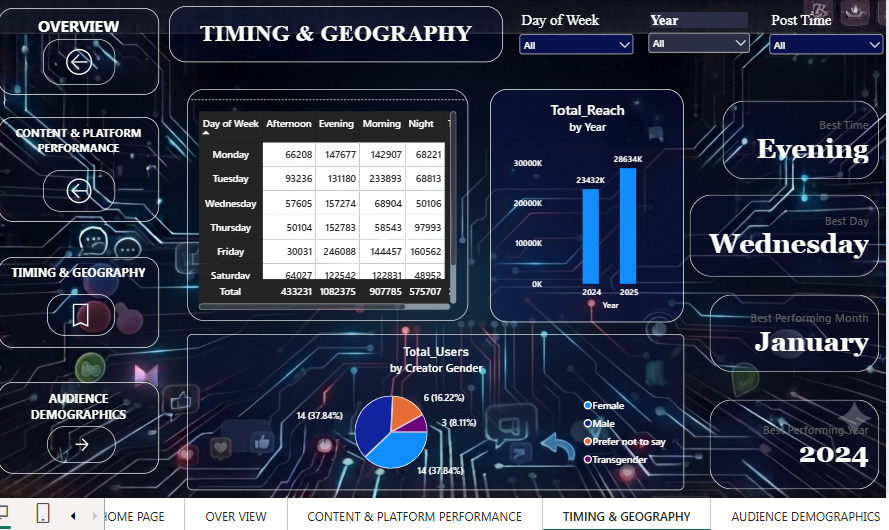

The dashboard page shown, as its layout file describes it:
{"tool":"powerbi","page":{"name":"TIMING & GEOGRAPHY","canvas":[1280,720],"ordinal":3},"visuals":[{"type":"cardVisual","title":"TOTAL POSTS","fields":{"Data":["Final Dataset.Best Performing Year"]},"box":[1023.8,577.4,246.2,131],"z":0},{"type":"cardVisual","title":"TOTAL POSTS","fields":{"Data":["Final Dataset.Best Performing Month"]},"box":[1023.8,426.2,246.2,113.8],"z":1000},{"type":"cardVisual","title":"TOTAL POSTS","fields":{"Data":["Final Dataset.Best Time Slot"]},"box":[995,282.2,275,121],"z":2000},{"type":"pivotTable","fields":{"Values":["Final Dataset.Sum_Total_Engagement"],"Columns":["Engagement System Data.Post Time"],"Rows":["Engagement System Data.Day of Week"]},"box":[272.2,131,404.6,334.1],"z":3000},{"type":"cardVisual","title":"TOTAL POSTS","fields":{"Data":["Final Dataset.Best Time"]},"box":[1042.6,146.9,227.5,115.2],"z":4000},{"type":"clusteredColumnChart","fields":{"Category":["Engagement System Data.Year"],"Y":["Engagement System Data.Total_Reach"]},"box":[708.5,131,279.4,335.5],"z":5000},{"type":"pieChart","fields":{"Category":["Engagement System Data.Creator Gender"],"Y":["Engagement System Data.Total_Users"]},"box":[272.2,483.8,715.7,224.6],"z":6000},{"type":"actionButton","box":[246.2,11.5,481,80.6],"z":7000},{"type":"shape","box":[0,171.4,231.8,151.2],"z":8000},{"type":"shape","box":[0,14.4,231.8,125.3],"z":9000},{"type":"shape","box":[0,373,231.8,131],"z":10000},{"type":"shape","box":[0,553,231.8,132.5],"z":11000},{"type":"actionButton","box":[64.8,59,103.7,66.2],"z":12000},{"type":"actionButton","box":[64.8,247.7,103.7,60.5],"z":13000},{"type":"actionButton","box":[70.6,426.2,97.9,60.5],"z":14000},{"type":"actionButton","box":[70.6,616.3,99.4,53.3],"z":15000},{"type":"slicer","fields":{"Values":["Engagement System Data.Day of Week"]},"box":[745.9,20.2,174.2,77.8],"z":16000},{"type":"slicer","fields":{"Values":["Engagement System Data.Post Time"]},"box":[1105.9,20.2,174.2,86.4],"z":17000},{"type":"slicer","fields":{"Values":["Engagement System Data.Year"]},"box":[931.7,20.2,155.5,72],"z":18000}]}

Visuals, with their boxes on the page's 1280x720 design canvas (x1, y1, x2, y2). These are canvas units, not pixel positions in the 889x530 screenshot, which may show the page scaled, cropped or inside an application window:
"TOTAL POSTS" cardVisual: <box>1024,577,1270,708</box>
"TOTAL POSTS" cardVisual: <box>1024,426,1270,540</box>
"TOTAL POSTS" cardVisual: <box>995,282,1270,403</box>
pivotTable - Final Dataset.Sum_Total_Engagement x Engagement System Data.Post Time: <box>272,131,677,465</box>
"TOTAL POSTS" cardVisual: <box>1043,147,1270,262</box>
clusteredColumnChart - Engagement System Data.Year x Engagement System Data.Total_Reach: <box>708,131,988,466</box>
pieChart - Engagement System Data.Creator Gender x Engagement System Data.Total_Users: <box>272,484,988,708</box>
actionButton: <box>246,12,727,92</box>
shape: <box>0,171,232,323</box>
shape: <box>0,14,232,140</box>
shape: <box>0,373,232,504</box>
shape: <box>0,553,232,686</box>
actionButton: <box>65,59,168,125</box>
actionButton: <box>65,248,168,308</box>
actionButton: <box>71,426,168,487</box>
actionButton: <box>71,616,170,670</box>
slicer - Engagement System Data.Day of Week: <box>746,20,920,98</box>
slicer - Engagement System Data.Post Time: <box>1106,20,1280,107</box>
slicer - Engagement System Data.Year: <box>932,20,1087,92</box>
